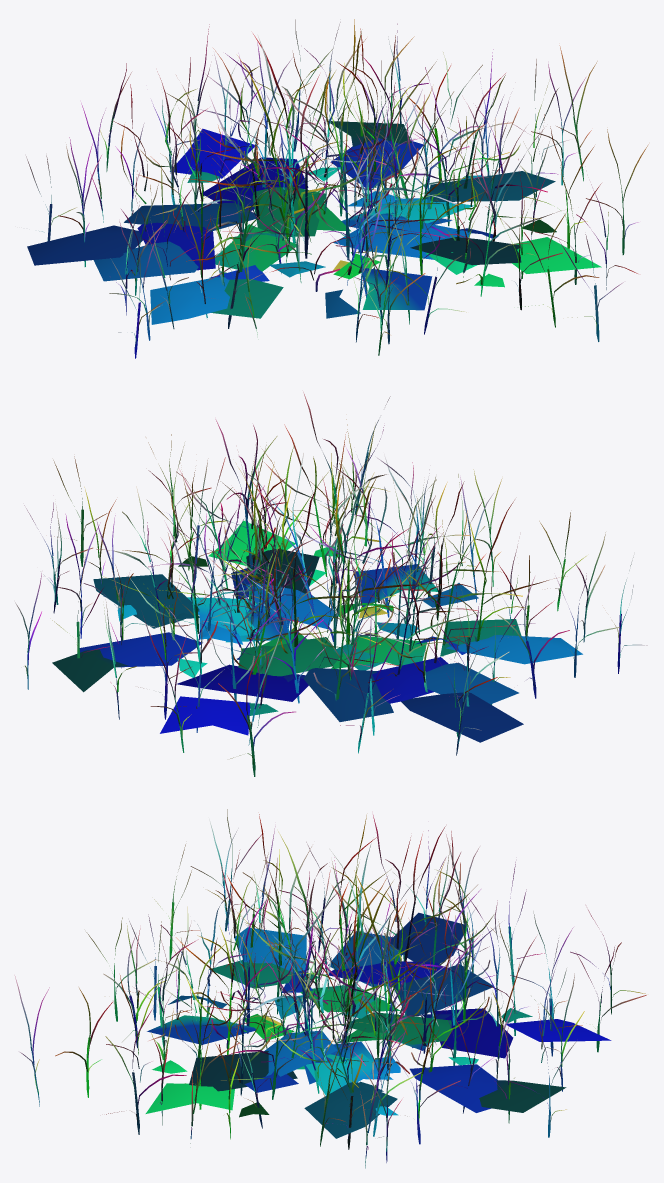
File: Kikuyu_Grass_wiljearqx_High_wiljearqx_VarC_LOD1.fbx
The picture shows the model from 3 angles, top to bottom: view 1: azimuth 30°, elevation 25°; view 2: azimuth 150°, elevation 25°; view 3: azimuth 270°, elevation 25°; orthographic projection. The views are drawn at different scales.
Visible parts, largest first — view 1: _4j1u_VarC_LOD2; view 2: _4j1u_VarC_LOD2; view 3: _4j1u_VarC_LOD2.
Boxes of the visible parts, <box> form: _4j1u_VarC_LOD2: <box>26,19,648,358</box>; _4j1u_VarC_LOD2: <box>15,392,647,776</box>; _4j1u_VarC_LOD2: <box>14,809,646,1168</box>.
Bounding box in the file's own units: 116 × 43.64 × 118.
